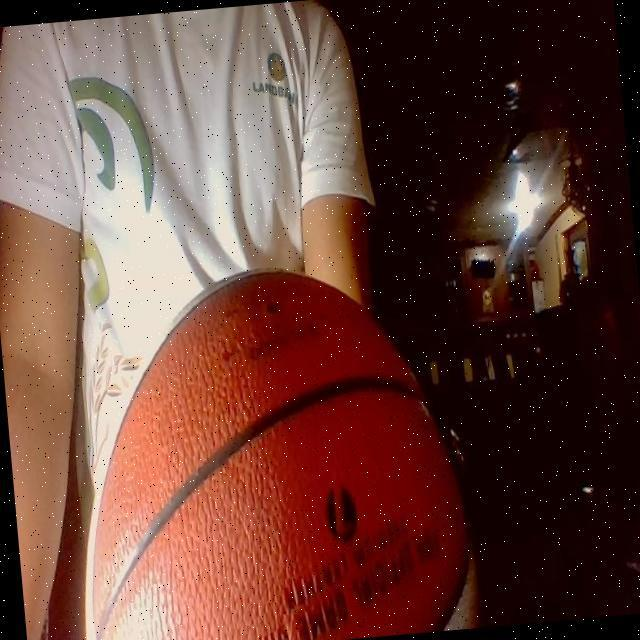ball: (53, 244, 484, 640)
